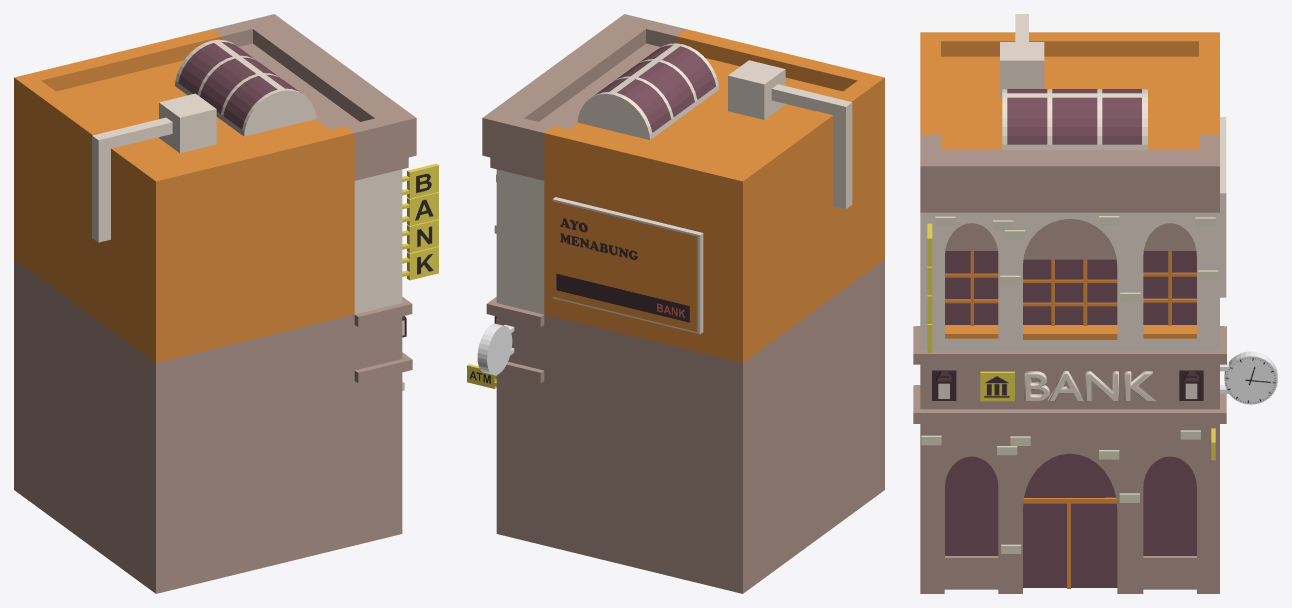
The model's file is cube.049_bank1_0_lev1.glb.
3 views of the same model, side by side, from view 1: azimuth 30°, elevation 25°; view 2: azimuth 150°, elevation 25°; view 3: azimuth 270°, elevation 25° (orthographic). The views are drawn at different scales.
Parts seen in each view (by area): view 1: cube.049_bank1_0_lev1; view 2: cube.049_bank1_0_lev1; view 3: cube.049_bank1_0_lev1.
Boxes of the visible parts, x1,y1,x2,y2 form: cube.049_bank1_0_lev1: (14,14,438,593); cube.049_bank1_0_lev1: (467,14,884,593); cube.049_bank1_0_lev1: (913,14,1277,593).
Size of the model in its own units: 0.4619 by 0.6421 by 0.4631.
1 material, 1 textured.
